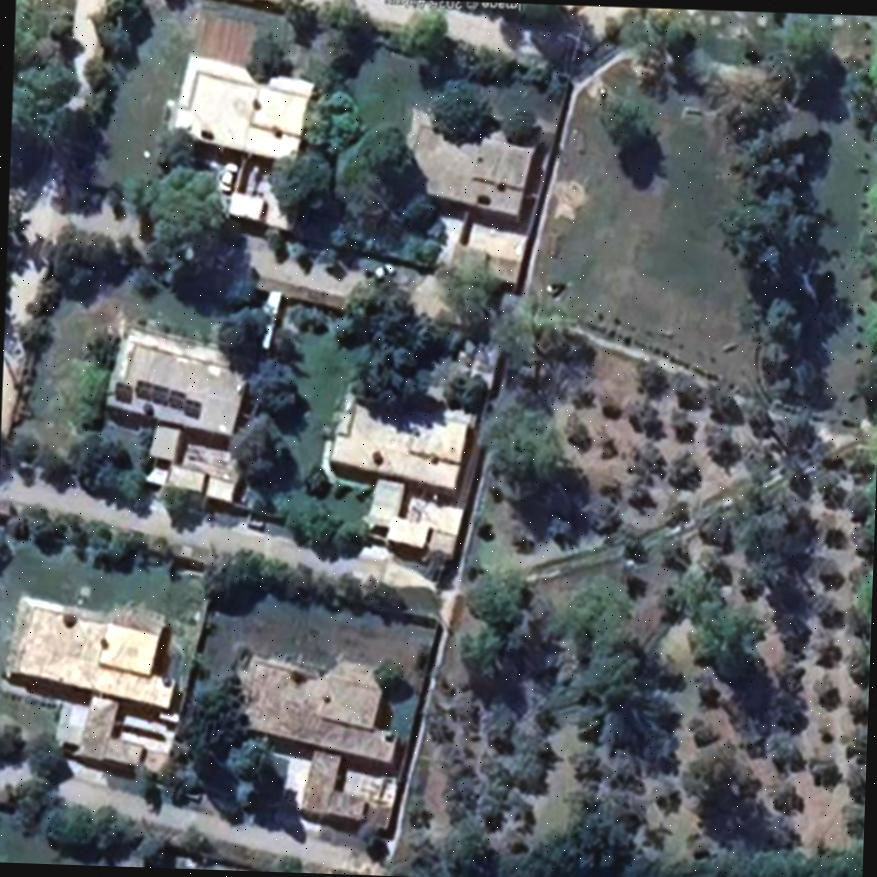Solarpanel: (134, 382, 183, 409), (112, 383, 132, 396), (183, 401, 198, 414)
